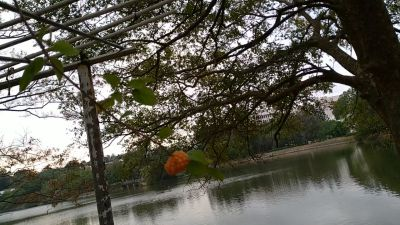eggs: (163, 149, 192, 177)
